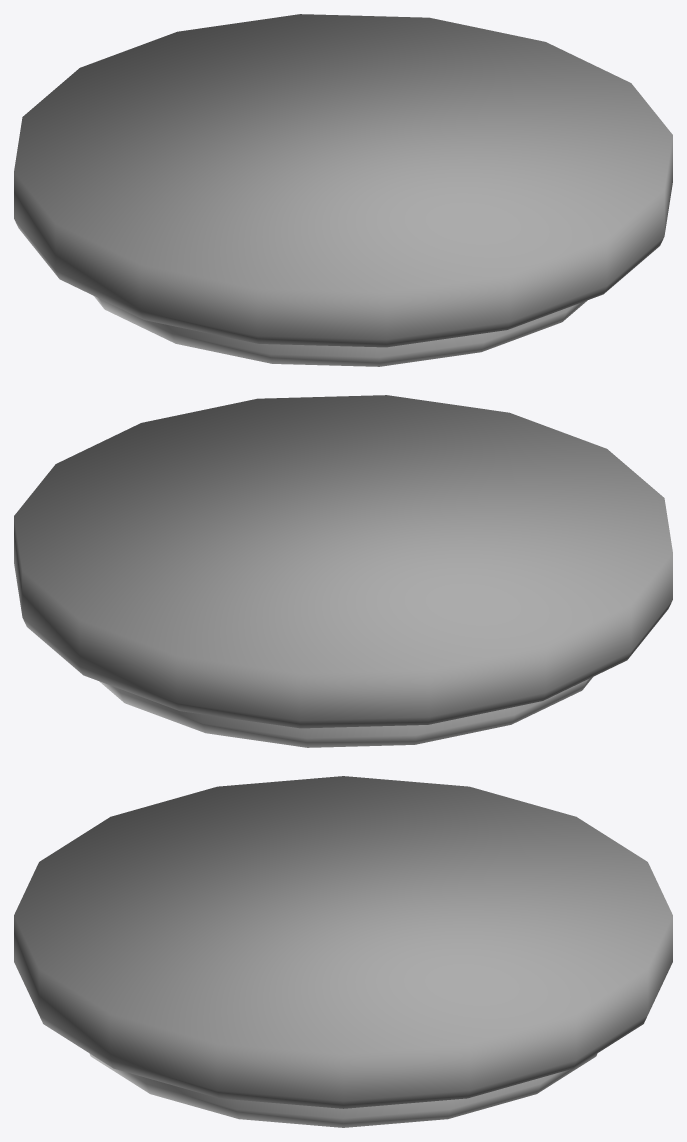
Rendered from lampada circular.fbx.
3 renders of one model, top to bottom at view 1: azimuth 30°, elevation 25°; view 2: azimuth 150°, elevation 25°; view 3: azimuth 270°, elevation 25°, orthographic.
Visible parts, largest first — view 1: CircularCeilingLampSupport, CircularCeilingLamp; view 2: CircularCeilingLampSupport, CircularCeilingLamp; view 3: CircularCeilingLampSupport, CircularCeilingLamp.
Part boxes in pixels (box(x1,y1,x2,y2)): CircularCeilingLampSupport: box(14, 14, 672, 347); CircularCeilingLamp: box(94, 296, 587, 366); CircularCeilingLampSupport: box(14, 395, 672, 728); CircularCeilingLamp: box(99, 677, 592, 747); CircularCeilingLampSupport: box(14, 776, 672, 1108); CircularCeilingLamp: box(89, 1053, 597, 1127).
Bounding box in the file's own units: 95.32 × 16.28 × 95.32.
